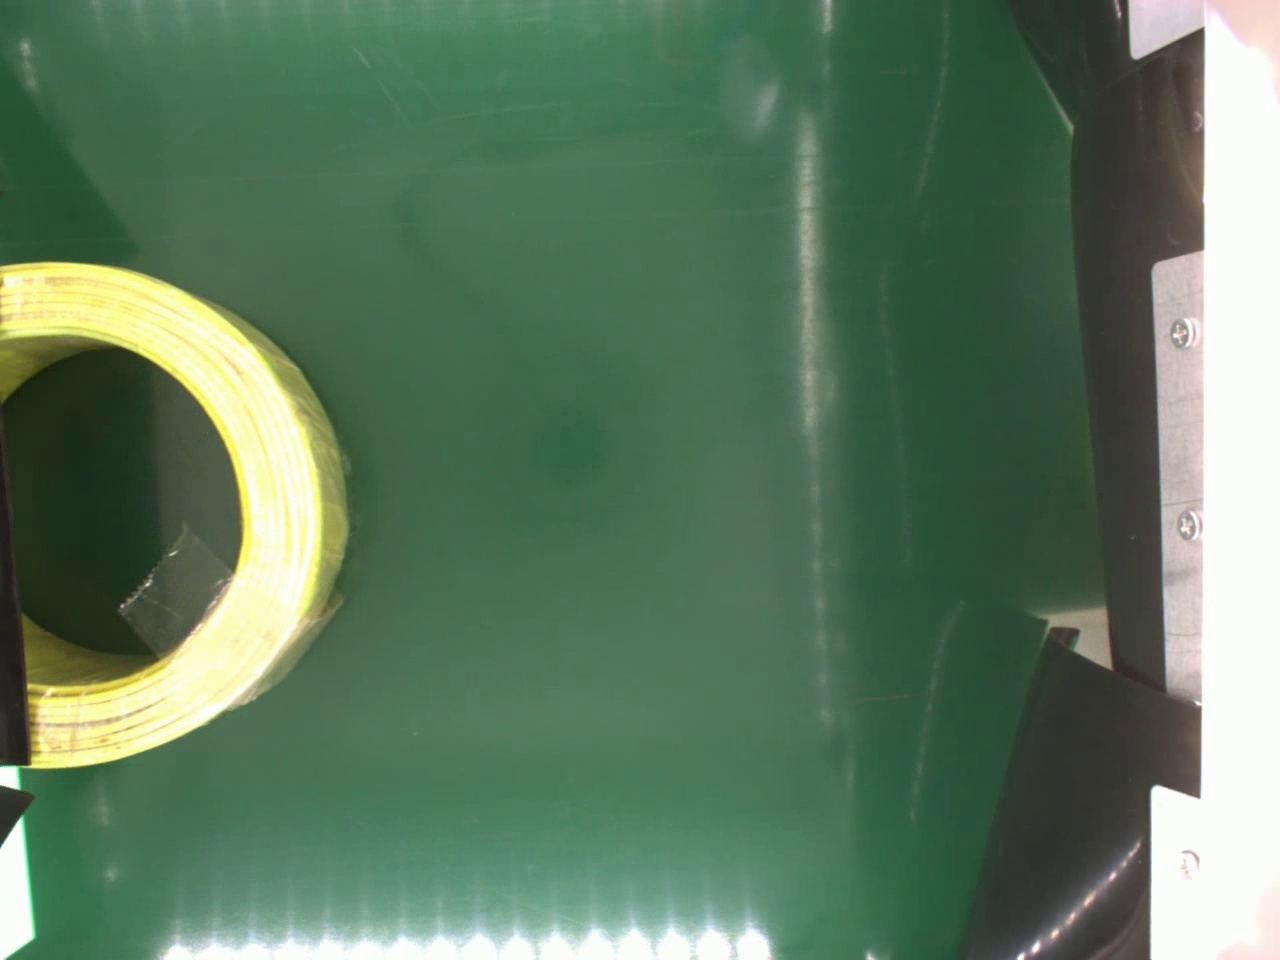yellow: (0, 255, 351, 774)
